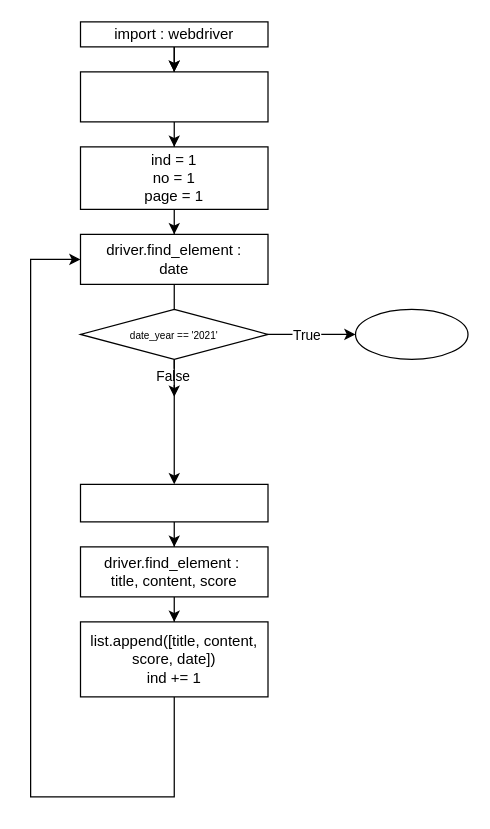
This 490x829 diagram has some shape labels left out. The centre of each missing label's shape, as x and y in pixels:
"break" goes at pixel 411 333.
"driver.find_element.click()" goes at pixel 173 502.
"driver.get : iscream Web" goes at pixel 173 96.
